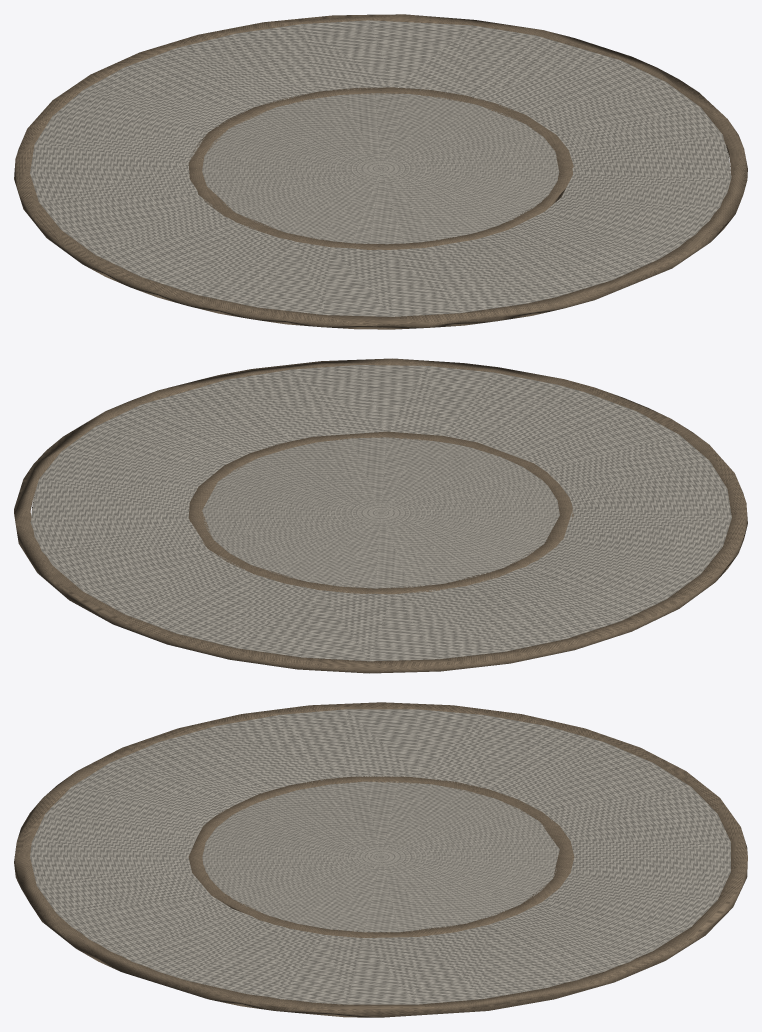
The model's file is living_area_rug.glb.
3 renders of one model, top to bottom at view 1: azimuth 30°, elevation 25°; view 2: azimuth 150°, elevation 25°; view 3: azimuth 270°, elevation 25°, orthographic.
Visible parts, largest first — view 1: Hali_Govde_Dis, Hali_Merkez_Yun, Hali_Kenar_Bandi, Hali_Halka_Deseni; view 2: Hali_Govde_Dis, Hali_Merkez_Yun, Hali_Kenar_Bandi, Hali_Halka_Deseni; view 3: Hali_Govde_Dis, Hali_Merkez_Yun, Hali_Kenar_Bandi, Hali_Halka_Deseni.
Part boxes in pixels (x1=…): Hali_Govde_Dis: x1=30, y1=20, x2=731, y2=316; Hali_Merkez_Yun: x1=202, y1=93, x2=559, y2=244; Hali_Kenar_Bandi: x1=14, y1=14, x2=747, y2=329; Hali_Halka_Deseni: x1=188, y1=87, x2=573, y2=249; Hali_Govde_Dis: x1=30, y1=365, x2=731, y2=661; Hali_Merkez_Yun: x1=202, y1=437, x2=559, y2=588; Hali_Kenar_Bandi: x1=14, y1=358, x2=747, y2=673; Hali_Halka_Deseni: x1=188, y1=431, x2=573, y2=594; Hali_Govde_Dis: x1=30, y1=709, x2=730, y2=1004; Hali_Merkez_Yun: x1=202, y1=781, x2=559, y2=932; Hali_Kenar_Bandi: x1=14, y1=702, x2=747, y2=1017; Hali_Halka_Deseni: x1=188, y1=776, x2=574, y2=937.
Size of the model in its own units: 1.6 by 0.015 by 1.6.
Materials: 2 (2 with a texture image).
